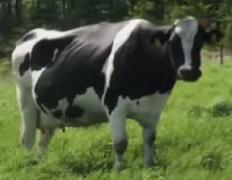cow: (12, 15, 227, 168)
